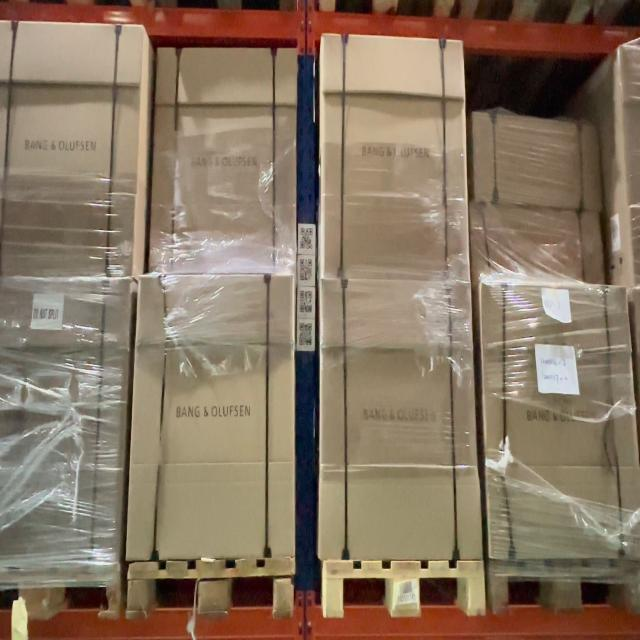box: (126, 273, 295, 557), (319, 280, 483, 561), (322, 34, 473, 285), (149, 47, 297, 275)
